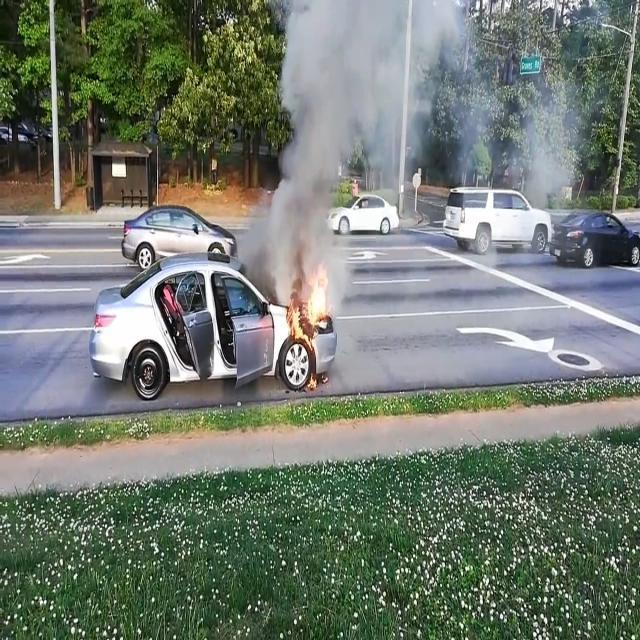fire: (279, 242, 338, 394)
